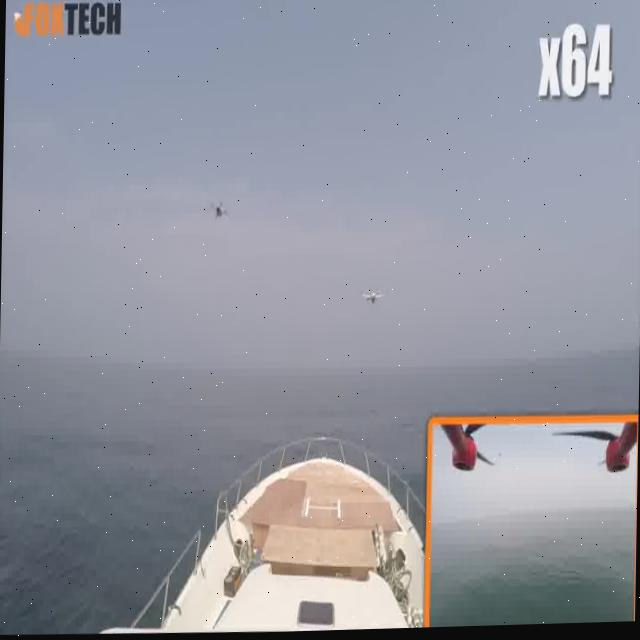drone: (353, 279, 392, 326)
